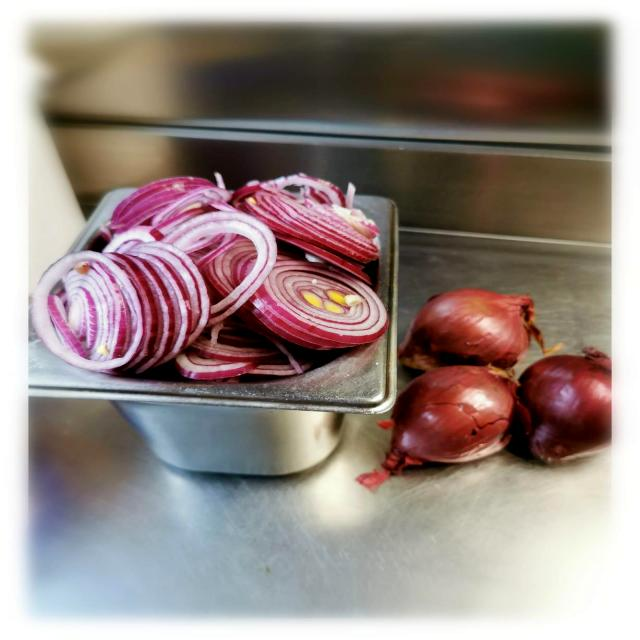onion: (43, 164, 387, 394), (357, 360, 527, 490), (397, 275, 541, 375), (522, 341, 610, 468)
